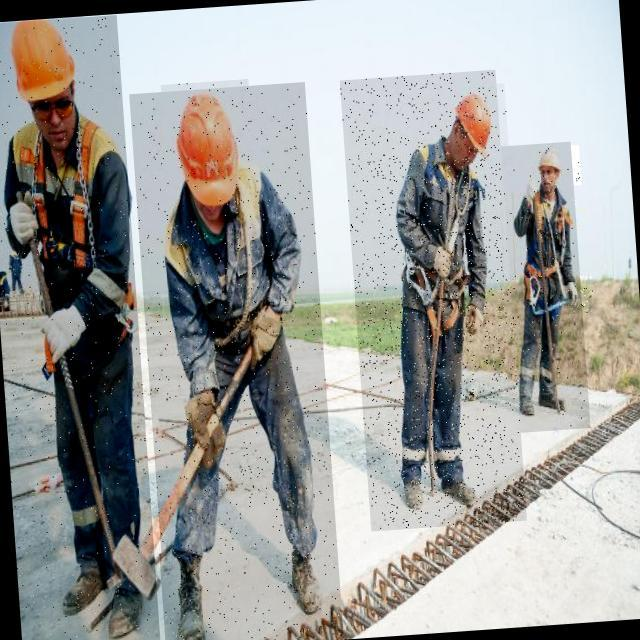Gloves: (171, 375, 237, 482), (36, 301, 92, 377), (242, 296, 295, 373), (3, 192, 49, 263), (428, 233, 462, 296), (451, 297, 498, 342), (561, 275, 595, 315), (523, 177, 552, 212)
Helmet: (160, 79, 257, 213), (1, 16, 89, 115), (441, 83, 510, 172), (534, 145, 582, 188)
Human: (128, 81, 343, 640), (0, 15, 160, 640), (340, 69, 527, 531), (500, 142, 592, 434)
Safety Boot: (43, 539, 116, 629), (158, 548, 226, 640), (278, 534, 337, 627), (93, 557, 153, 640), (425, 455, 485, 511), (393, 454, 435, 528), (535, 377, 580, 424), (507, 381, 546, 434)
